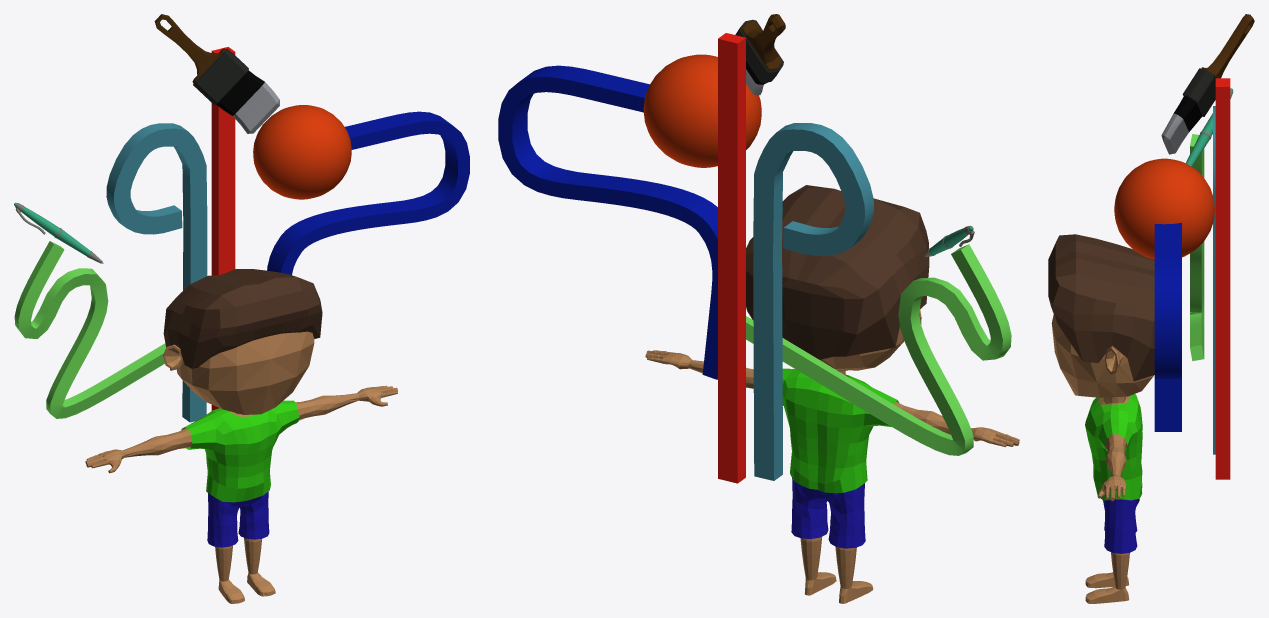
Rendered from Arts and Writing_No Animation.FBX.
3 views of the same model, side by side, from view 1: azimuth 30°, elevation 25°; view 2: azimuth 150°, elevation 25°; view 3: azimuth 270°, elevation 25° (orthographic). The views are drawn at different scales.
Parts seen in each view (by area): view 1: Child002, Hair001, DarkB002, LightB002, Box007, Ball 001, Clothes001, Still, Box004, Short001, Pen001; view 2: Hair001, LightB002, DarkB002, Box007, Box004, Clothes001, Ball 001, Child002, Short001, Still; view 3: Hair001, Ball 001, Child002, Box004, DarkB002, Clothes001, Still, Box007, Short001, LightB002, Pen001.
Boxes of the visible parts, box(x1,y1,x2,y2) form: Child002: box(85, 331, 397, 603); Hair001: box(163, 269, 322, 370); DarkB002: box(267, 111, 469, 274); LightB002: box(106, 123, 207, 422); Box007: box(14, 241, 165, 418); Ball 001: box(253, 105, 351, 199); Clothes001: box(181, 400, 299, 502); Still: box(154, 14, 279, 133); Box004: box(211, 47, 235, 410); Short001: box(207, 491, 269, 547); Pen001: box(14, 202, 103, 263); Hair001: box(746, 185, 929, 359); LightB002: box(753, 123, 873, 480); DarkB002: box(498, 65, 717, 379); Box007: box(746, 244, 1011, 455); Box004: box(718, 33, 745, 483); Clothes001: box(782, 368, 899, 493); Ball 001: box(643, 54, 761, 167); Child002: box(645, 309, 1019, 603); Short001: box(791, 478, 865, 548); Still: box(735, 14, 785, 95); Hair001: box(1048, 234, 1154, 381); Ball 001: box(1114, 158, 1214, 259); Child002: box(1051, 314, 1153, 603); Box004: box(1215, 78, 1230, 479); DarkB002: box(1154, 222, 1181, 431); Clothes001: box(1085, 394, 1142, 500); Still: box(1161, 14, 1254, 154); Box007: box(1190, 134, 1204, 361); Short001: box(1102, 498, 1139, 553); LightB002: box(1213, 106, 1215, 454); Pen001: box(1186, 88, 1233, 166).
Size of the model in its own units: 88.62 by 104 by 34.23.
